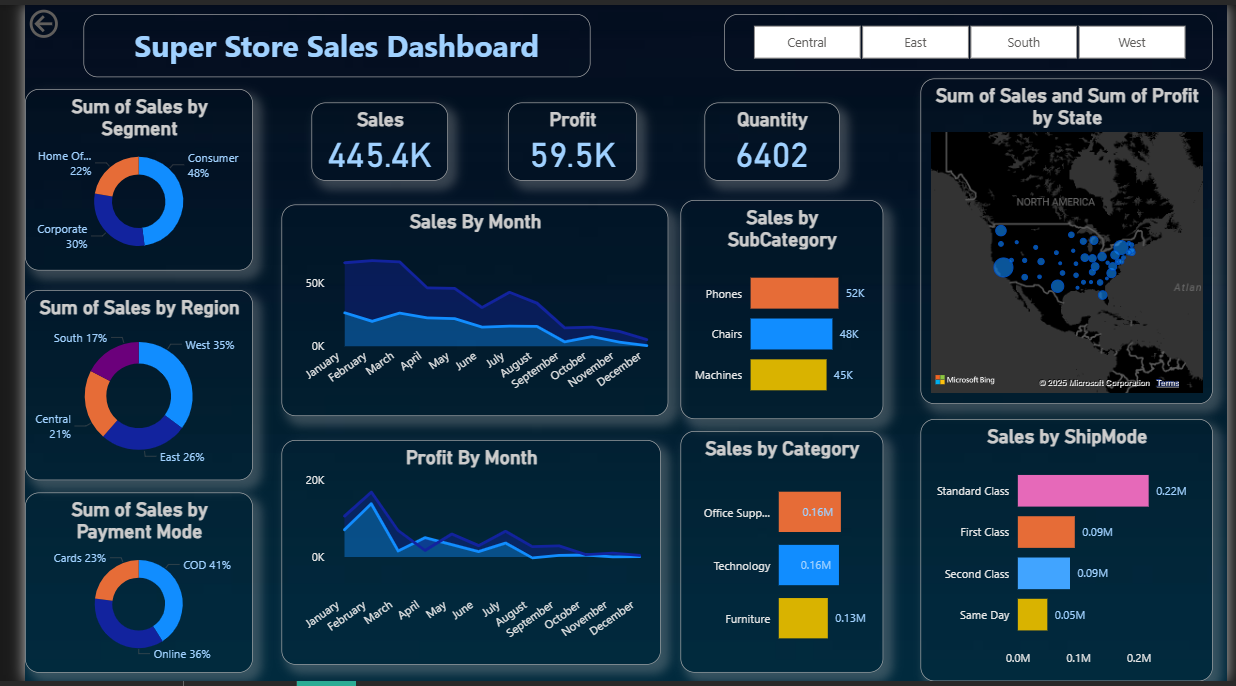

The page's visual inventory and layout, read from the dashboard file:
{"tool":"powerbi","page":{"name":"Page 1","canvas":[1280,720],"ordinal":0},"visuals":[{"type":"clusteredBarChart","title":"Sales by Category","fields":{"Category":["SuperStore_Sales_Dataset.Category"],"Y":["Sum(SuperStore_Sales_Dataset.Sales)"]},"box":[698.2,453.7,215.7,257.2],"z":0},{"type":"clusteredBarChart","title":"Sales by SubCategory","fields":{"Category":["SuperStore_Sales_Dataset.Sub-Category"],"Y":["Sum(SuperStore_Sales_Dataset.Sales)"]},"box":[698.2,207.7,215.7,233.3],"z":1000},{"type":"clusteredBarChart","title":"Sales by ShipMode","fields":{"Category":["SuperStore_Sales_Dataset.Ship Mode"],"Y":["Sum(SuperStore_Sales_Dataset.Sales)"]},"box":[953.8,441,311.5,279.6],"z":2000},{"type":"stackedAreaChart","title":"Sales By Month","fields":{"Y":["Sum(SuperStore_Sales_Dataset.Sales)"],"Series":["SuperStore_Sales_Dataset.Order Date.Variation.Date Hierarchy.Year"],"Category":["SuperStore_Sales_Dataset.Order Date.Variation.Date Hierarchy.Month"]},"box":[273.2,212.5,412.2,225.3],"z":3000},{"type":"stackedAreaChart","title":" Profit By Month","fields":{"Series":["SuperStore_Sales_Dataset.Order Date.Variation.Date Hierarchy.Year"],"Category":["SuperStore_Sales_Dataset.Order Date.Variation.Date Hierarchy.Month"],"Y":["Sum(SuperStore_Sales_Dataset.Profit)"]},"box":[273.2,463.3,404.2,239.7],"z":4000},{"type":"map","fields":{"Category":["SuperStore_Sales_Dataset.State"],"Size":["Sum(SuperStore_Sales_Dataset.Sales)"]},"box":[953.8,78.3,311.5,346.7],"z":5000},{"type":"donutChart","fields":{"Category":["SuperStore_Sales_Dataset.Segment"],"Y":["Sum(SuperStore_Sales_Dataset.Sales)"]},"box":[0,89.5,242.8,193.3],"z":6000},{"type":"donutChart","fields":{"Category":["SuperStore_Sales_Dataset.Payment Mode"],"Y":["Sum(SuperStore_Sales_Dataset.Sales)"]},"box":[0,519.2,242.8,191.7],"z":7000},{"type":"donutChart","fields":{"Category":["SuperStore_Sales_Dataset.Region"],"Y":["Sum(SuperStore_Sales_Dataset.Sales)"]},"box":[0,303.6,242.8,202.9],"z":8000},{"type":"slicer","fields":{"Values":["SuperStore_Sales_Dataset.Region"]},"box":[744.5,9.6,520.8,60.7],"z":9000},{"type":"textbox","box":[62.3,9.6,540,67.1],"z":10000},{"type":"card","title":"Sales","fields":{"Values":["Sum(SuperStore_Sales_Dataset.Sales)"]},"box":[305.2,103.8,145.4,83.1],"z":11000},{"type":"card","title":"Quantity","fields":{"Values":["Sum(SuperStore_Sales_Dataset.Quantity)"]},"box":[723.7,103.8,143.8,83.1],"z":12000},{"type":"card","title":"Profit","fields":{"Values":["Sum(SuperStore_Sales_Dataset.Profit)"]},"box":[514.4,103.8,137.4,83.1],"z":13000},{"type":"actionButton","box":[0,0,100,40],"z":14000}]}

Visuals, with their boxes in screenshot pixels (x1, y1, x2, y2), scaled from the page's 1280x720 canvas onto the 1236x686 screenshot:
"Sales by Category" clusteredBarChart: <box>674,432,882,677</box>
"Sales by SubCategory" clusteredBarChart: <box>674,198,882,420</box>
"Sales by ShipMode" clusteredBarChart: <box>921,420,1222,685</box>
"Sales By Month" stackedAreaChart: <box>264,202,662,417</box>
" Profit By Month" stackedAreaChart: <box>264,441,654,670</box>
map - SuperStore_Sales_Dataset.State x Sum(SuperStore_Sales_Dataset.Sales): <box>921,75,1222,405</box>
donutChart - SuperStore_Sales_Dataset.Segment x Sum(SuperStore_Sales_Dataset.Sales): <box>0,85,234,269</box>
donutChart - SuperStore_Sales_Dataset.Payment Mode x Sum(SuperStore_Sales_Dataset.Sales): <box>0,495,234,677</box>
donutChart - SuperStore_Sales_Dataset.Region x Sum(SuperStore_Sales_Dataset.Sales): <box>0,289,234,483</box>
slicer - SuperStore_Sales_Dataset.Region: <box>719,9,1222,67</box>
textbox: <box>60,9,582,73</box>
"Sales" card: <box>295,99,435,178</box>
"Quantity" card: <box>699,99,838,178</box>
"Profit" card: <box>497,99,629,178</box>
actionButton: <box>0,0,97,38</box>
